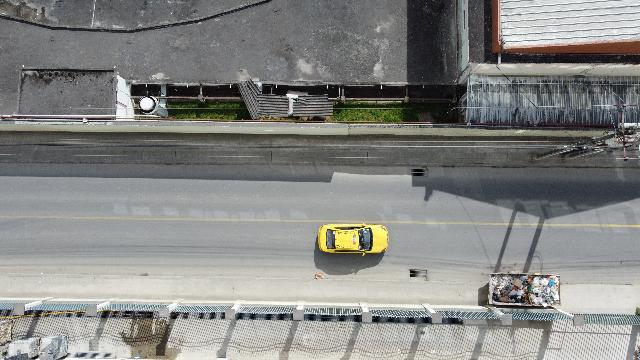Vehiculo: (317, 223, 388, 255)
